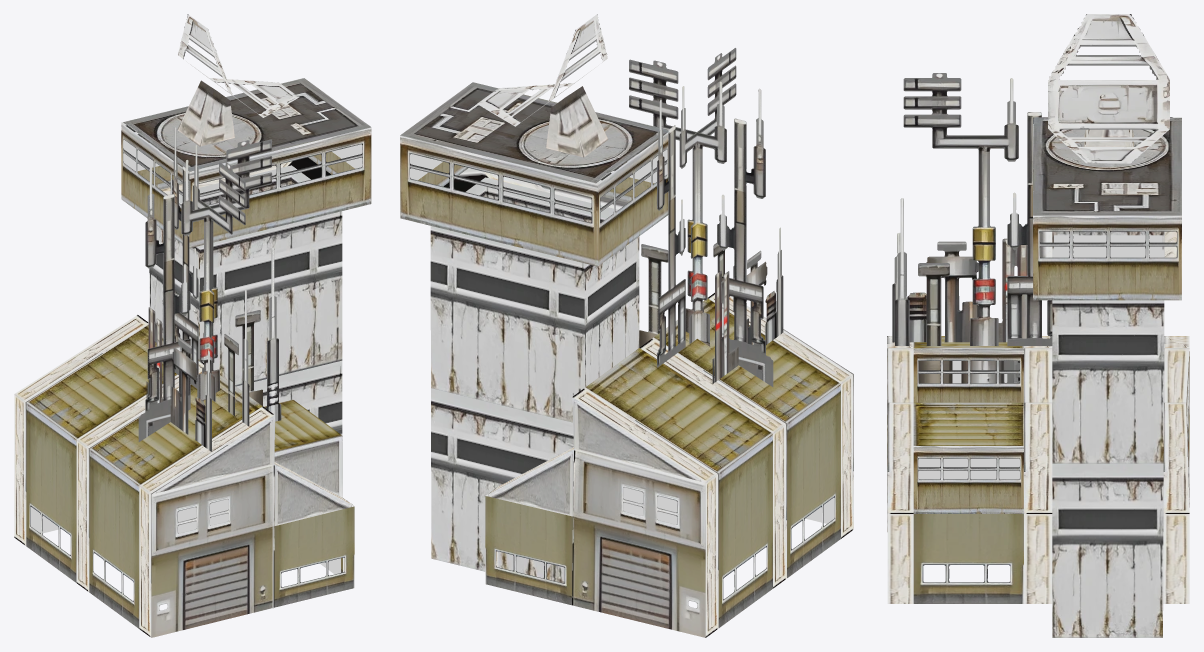
The model's file is d_sensorcontrol_hdtex.glb.
3 views of the same model, side by side, from view 1: azimuth 30°, elevation 25°; view 2: azimuth 150°, elevation 25°; view 3: azimuth 270°, elevation 25° (orthographic). The views are drawn at different scales.
Parts seen in each view (by area): view 1: SensorControl, L_Dish, LitWin_SensorControl; view 2: SensorControl, L_Dish, LitWin_SensorControl; view 3: SensorControl, L_Dish, LitWin_SensorControl.
Boxes of the visible parts, box(x1,y1,x2,y2) form: SensorControl: box(14, 78, 371, 637); L_Dish: box(177, 14, 299, 146); LitWin_SensorControl: box(30, 139, 362, 608); SensorControl: box(400, 48, 853, 637); L_Dish: box(477, 14, 608, 157); LitWin_SensorControl: box(410, 149, 834, 524); SensorControl: box(887, 73, 1189, 637); L_Dish: box(1048, 14, 1169, 163); LitWin_SensorControl: box(918, 235, 1162, 479).
Size of the model in its own units: 15.79 by 26.74 by 13.3.
2 materials, 2 textured.
